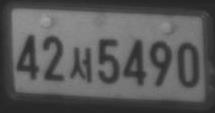0: (176, 41, 201, 88)
2: (42, 35, 66, 81)
4: (123, 39, 147, 86), (16, 34, 39, 80)
5: (98, 38, 119, 84)
9: (150, 40, 172, 87)
서: (69, 46, 92, 83)
